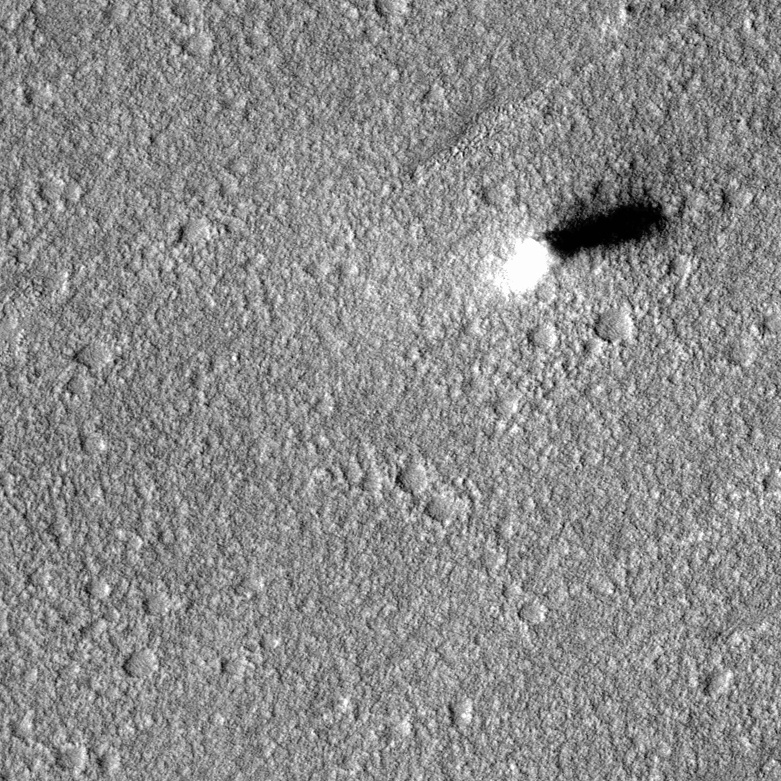dust_devil: (491, 199, 665, 301)
